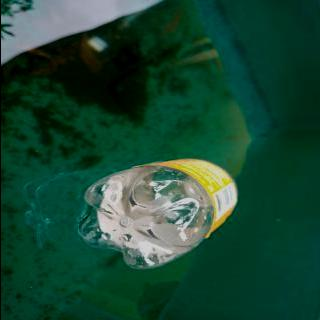bottle: (74, 156, 240, 272)
